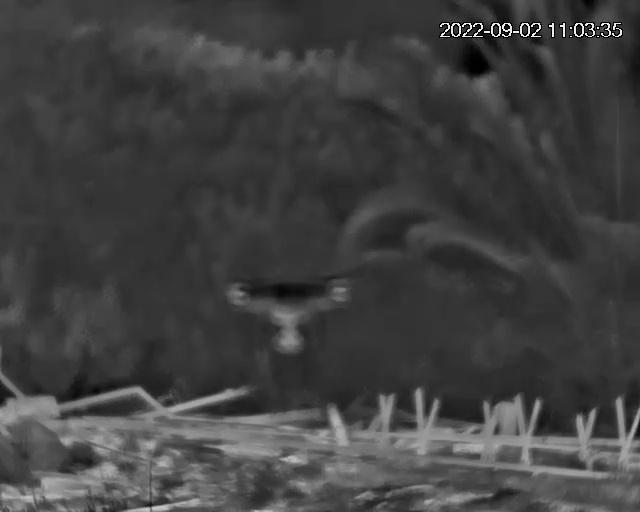DJI-Phantom: (225, 284, 355, 360)
